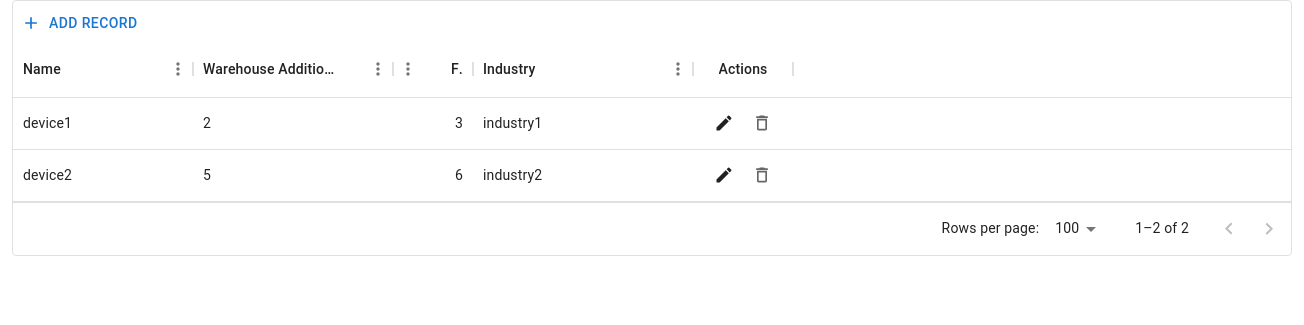
Test case: Create functionality › Create button creates input cells
This screenshot has width=1304, height=325.
Note: click create
Click the button with test id "create-button": coordinates (81, 23) x1=17 y1=5 x2=146 y2=42
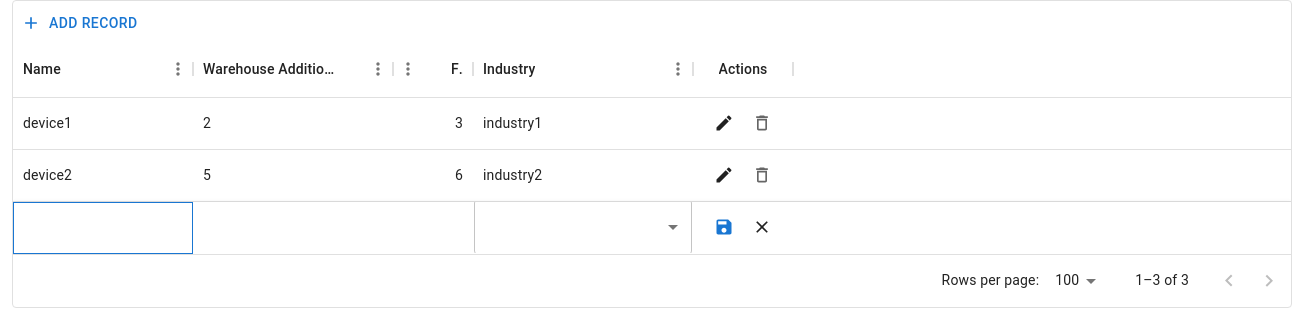
Check: the number of fields is 1, box x1=14 y1=219 x2=192 y2=235
Check: the number of number fields is 2, box x1=194 y1=219 x2=392 y2=235; x1=394 y1=219 x2=472 y2=235
